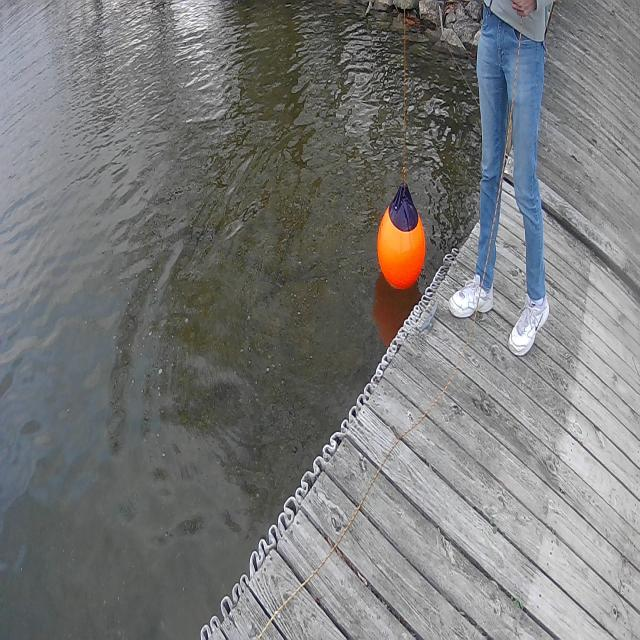Buoy: (367, 171, 437, 297)
